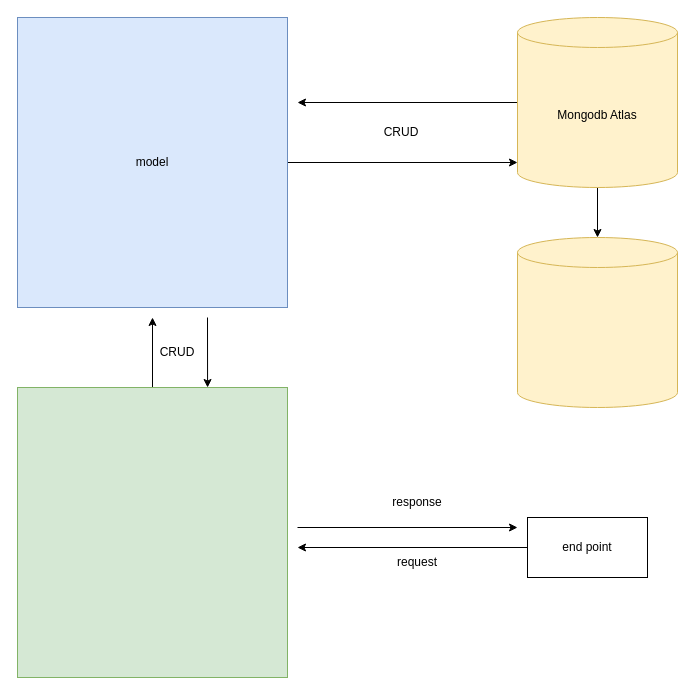
This 695x695 diagram has some shape labels left out. Each missing label, with the centre of its shape:
"controller" belongs at (x=152, y=532).
"replica*2" belongs at (x=597, y=322).
